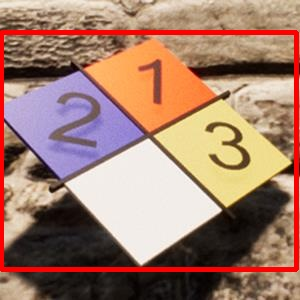nfpa: (1, 32, 296, 269)
